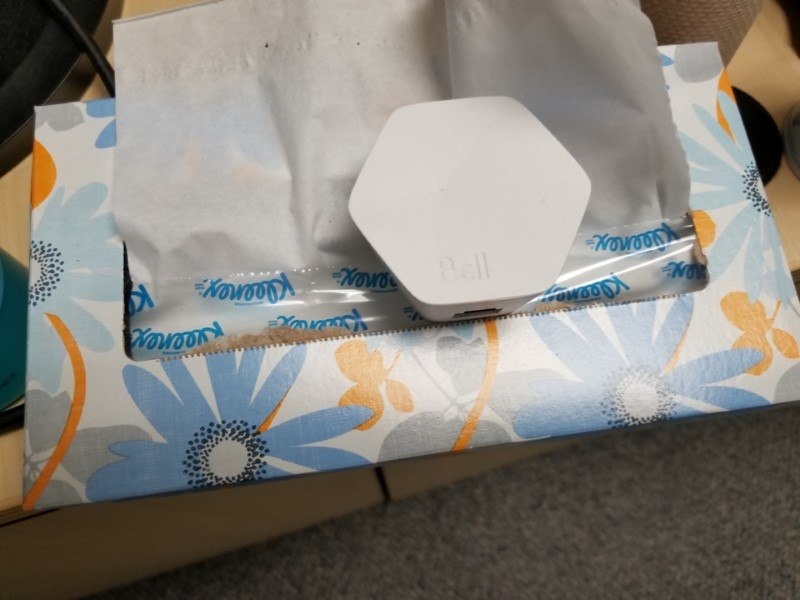pod: (345, 93, 597, 324)
